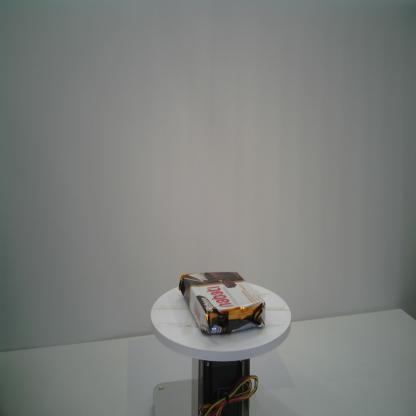Dessert: (178, 268, 267, 338)
